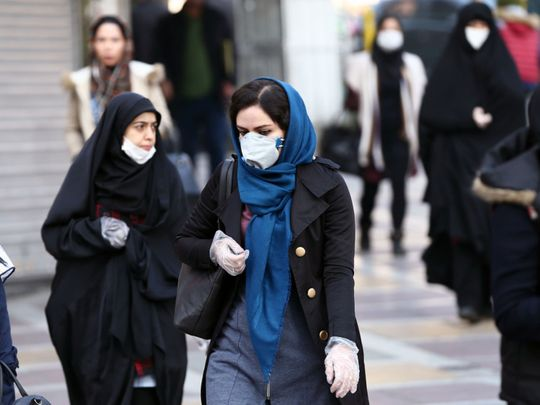mouth: (141, 144, 155, 150)
nose: (144, 135, 154, 141)
